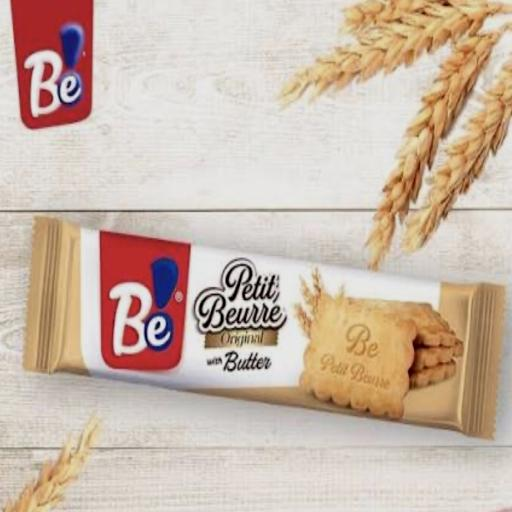petit_beurre: (6, 188, 512, 483)
